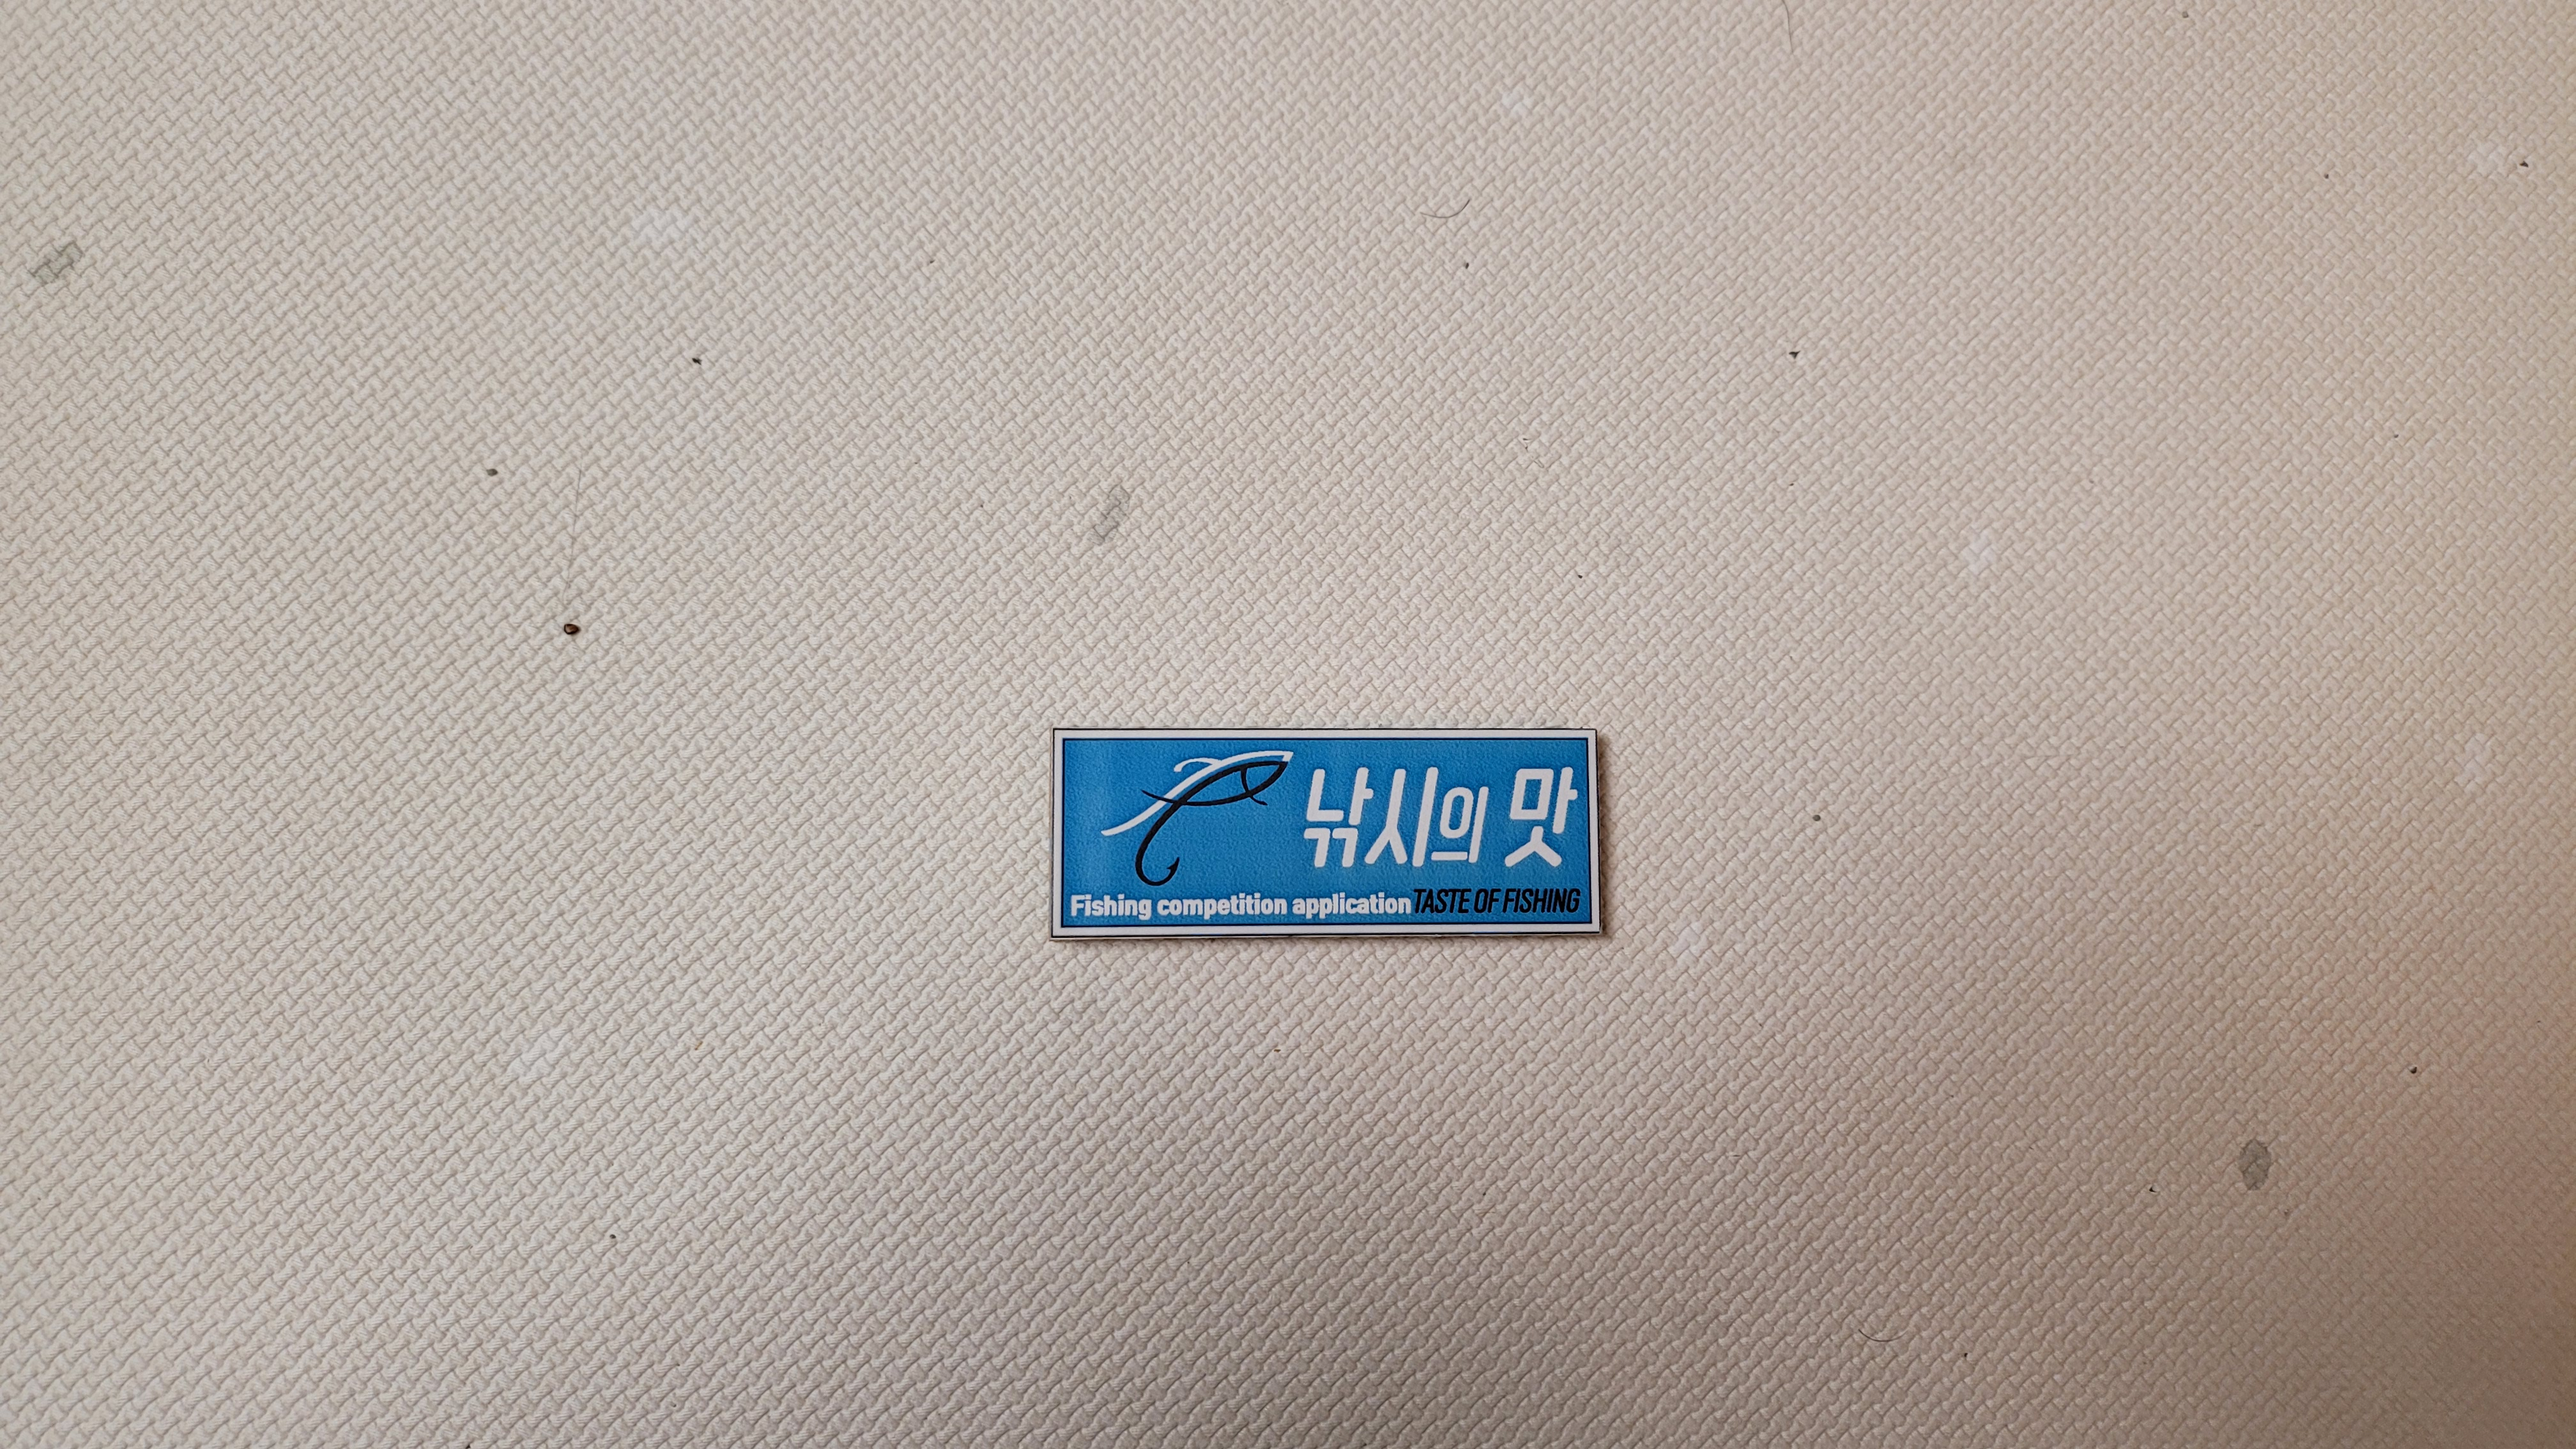tag: (1053, 729, 1608, 934)
